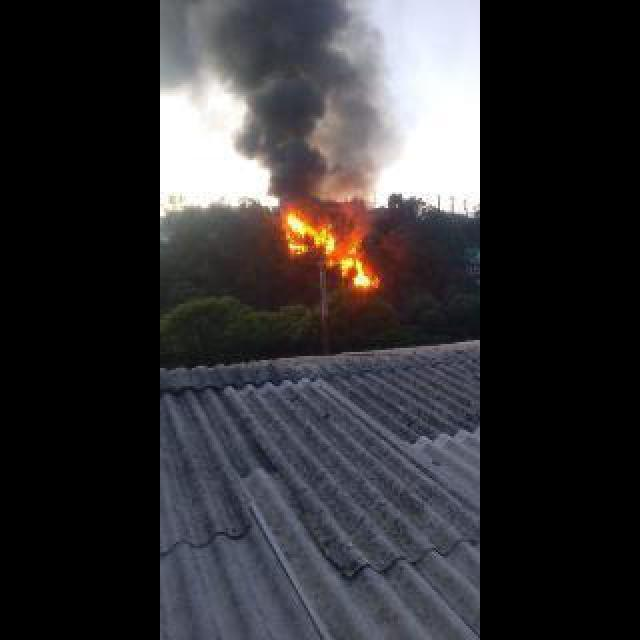Fire: (282, 208, 378, 292)
Smoke: (164, 3, 419, 204)
